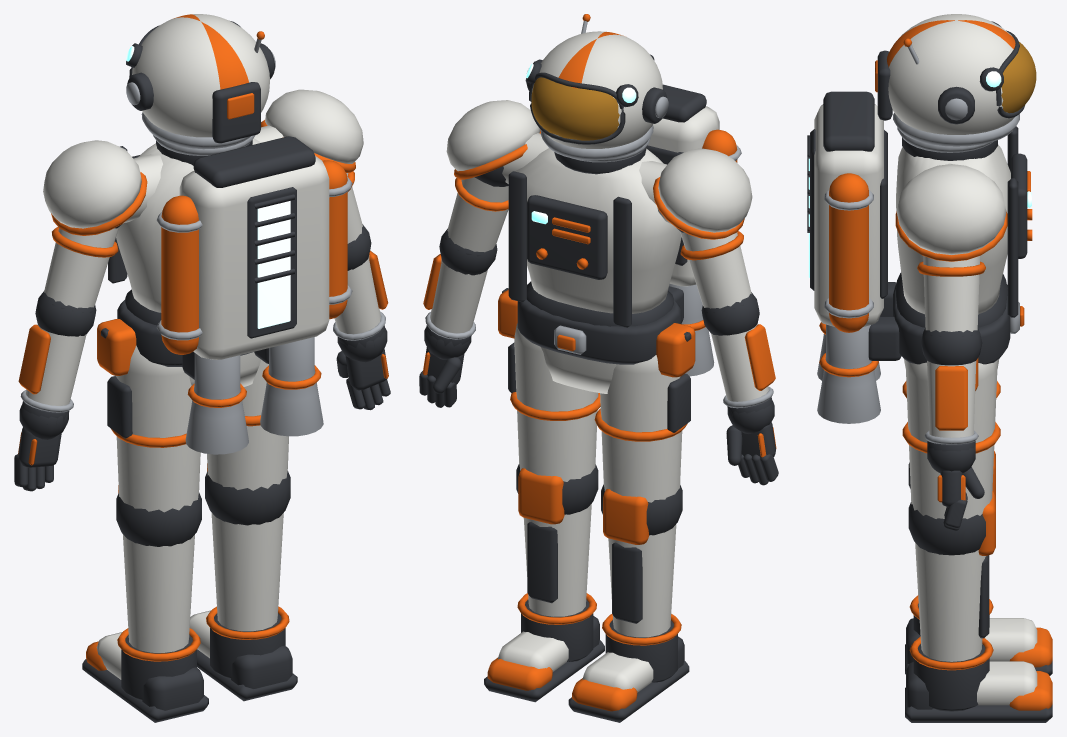
File: astronaut.glb
3 renders of one model, left to right at view 1: azimuth 30°, elevation 25°; view 2: azimuth 150°, elevation 25°; view 3: azimuth 270°, elevation 25°, orthographic. The views are drawn at different scales.
Visible parts, largest first — view 1: Backpack, Head, Arm_L_Upper, Leg_L_Upper, Leg_R_Lower, Leg_L_Lower, Torso, Foot_L, Foot_R, Arm_L_Lower, Arm_R_Upper, Leg_R_Upper (+4 smaller); view 2: Torso, Arm_L_Upper, Leg_L_Upper, Pelvis, Leg_R_Lower, Head, Leg_L_Lower, Arm_R_Upper, Leg_R_Upper, Foot_L, Foot_R, Backpack (+5 smaller); view 3: Backpack, Head, Arm_R_Upper, Torso, Leg_R_Lower, Foot_R, Leg_R_Upper, Arm_R_Lower, Pelvis, Foot_L, Hand_R, Visor.
Part boxes in pixels (<box>): Backpack: <box>156,136,352,454</box>; Head: <box>126,14,275,149</box>; Arm_L_Upper: <box>41,140,147,313</box>; Leg_L_Upper: <box>107,345,200,512</box>; Leg_R_Lower: <box>205,463,290,631</box>; Leg_L_Lower: <box>116,485,201,652</box>; Torso: <box>108,125,283,325</box>; Foot_L: <box>82,628,208,722</box>; Foot_R: <box>189,606,297,701</box>; Arm_L_Lower: <box>18,291,96,424</box>; Arm_R_Upper: <box>261,89,365,247</box>; Leg_R_Upper: <box>207,359,288,490</box>; Torso: <box>502,133,681,327</box>; Arm_L_Upper: <box>653,148,753,313</box>; Leg_L_Upper: <box>594,355,690,502</box>; Pelvis: <box>498,286,695,393</box>; Leg_R_Lower: <box>516,464,598,616</box>; Head: <box>525,14,668,160</box>; Leg_L_Lower: <box>601,484,682,637</box>; Arm_R_Upper: <box>445,100,540,256</box>; Leg_R_Upper: <box>508,323,600,481</box>; Foot_L: <box>568,614,689,722</box>; Foot_R: <box>484,593,604,702</box>; Backpack: <box>646,84,741,376</box>; Backpack: <box>807,91,887,423</box>; Head: <box>875,14,1019,146</box>; Arm_R_Upper: <box>895,164,1007,336</box>; Torso: <box>896,126,1032,327</box>; Leg_R_Lower: <box>908,491,995,661</box>; Foot_R: <box>905,636,1052,722</box>; Leg_R_Upper: <box>902,361,1000,518</box>; Arm_R_Lower: <box>921,328,982,451</box>; Pelvis: <box>868,282,1024,390</box>; Foot_L: <box>905,595,1052,675</box>; Hand_R: <box>927,445,984,530</box>; Visor: <box>996,30,1036,118</box>.
Size of the model in its own units: 1.05 by 1.8 by 0.5975.
